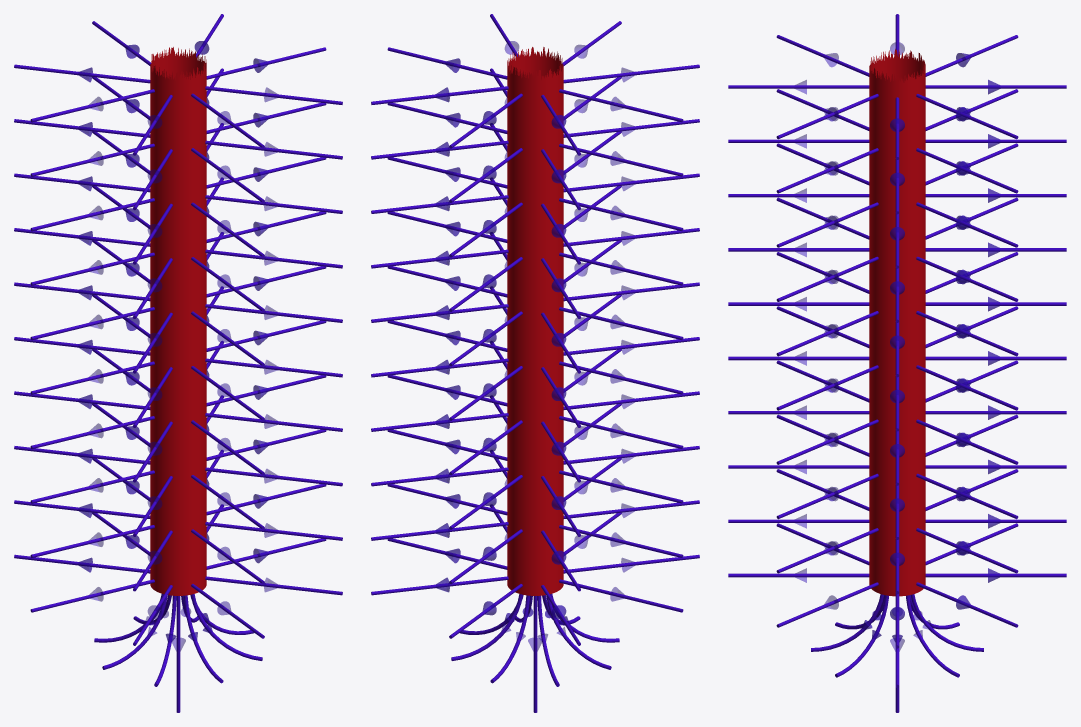
Rendered from lineacp.obj.
3 views of the same model, side by side, from view 1: azimuth 30°, elevation 25°; view 2: azimuth 150°, elevation 25°; view 3: azimuth 270°, elevation 25° (orthographic).
Visible parts, largest first — view 1: Cone.005_Cone.007, Cylinder.010_Cylinder.008; view 2: Cone.005_Cone.007, Cylinder.010_Cylinder.008; view 3: Cone.005_Cone.007, Cylinder.010_Cylinder.008.
Boxes of the visible parts, <box> form: Cone.005_Cone.007: <box>14,14,342,712</box>; Cylinder.010_Cylinder.008: <box>150,47,206,595</box>; Cone.005_Cone.007: <box>371,14,699,712</box>; Cylinder.010_Cylinder.008: <box>507,47,563,595</box>; Cone.005_Cone.007: <box>728,14,1066,712</box>; Cylinder.010_Cylinder.008: <box>869,49,925,596</box>.
Bounding box in the file's own units: 24.95 × 53.08 × 24.95.
